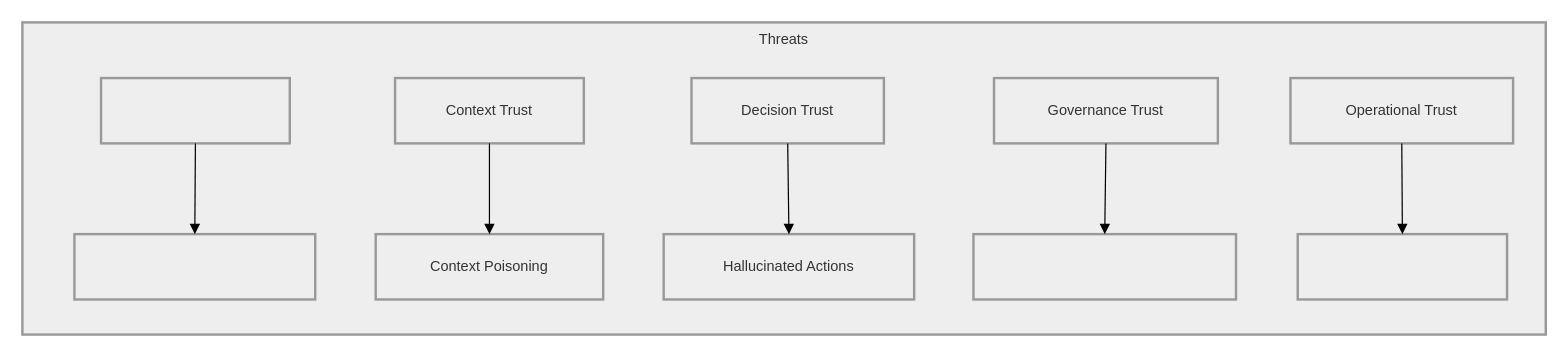
Image size: 1567x356. Some labels were removed from this diagram. The centre of each missing label's shape, as x and y in pixels:
"Agent Hijacking" goes at (1402,266).
"Identity Trust" goes at (194,110).
"Missing Accountability" goes at (1104,266).
"Privilege Escalation" goes at (194,266).
